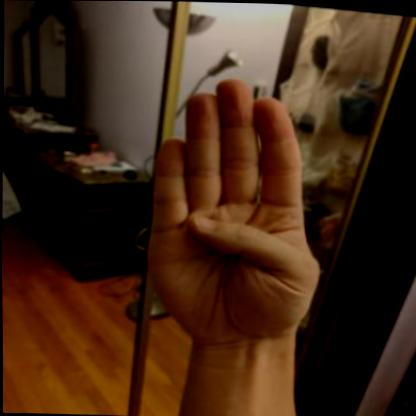B: (128, 63, 352, 362)
